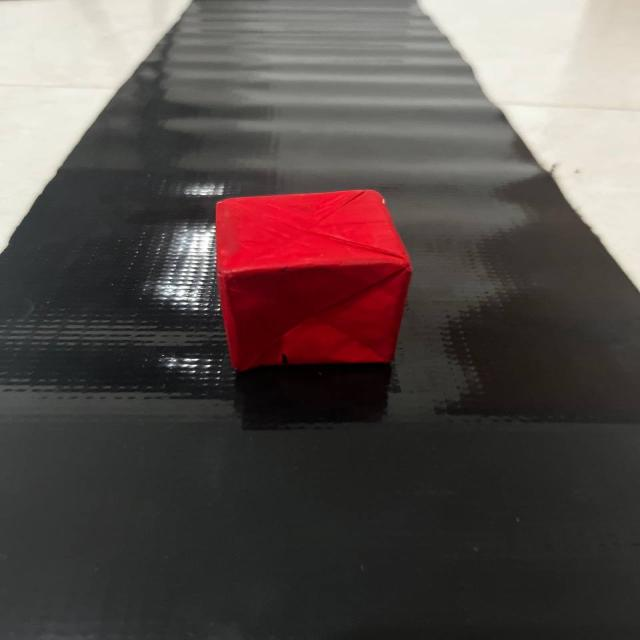Rojo: (198, 171, 418, 389)
